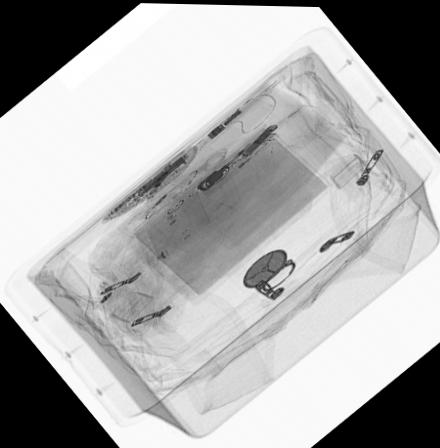Lighter: (195, 133, 274, 200)
